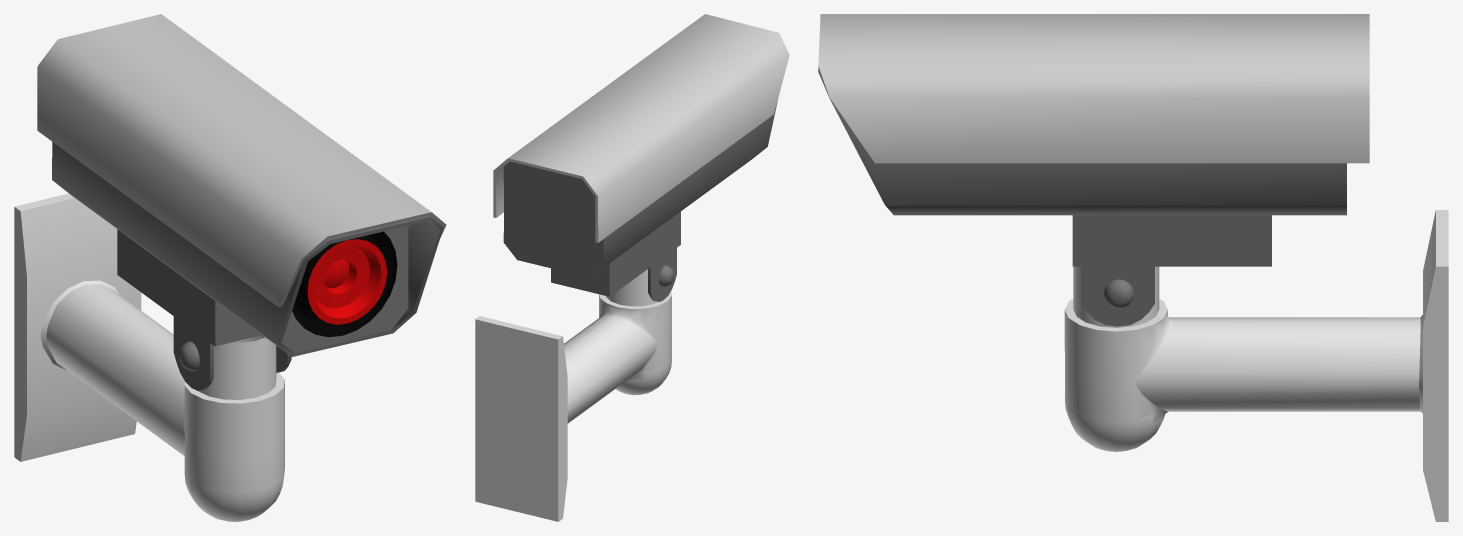
File: Camera.fbx
3 views of the same model, side by side, from view 1: azimuth 30°, elevation 25°; view 2: azimuth 150°, elevation 25°; view 3: azimuth 270°, elevation 25° (orthographic). The views are drawn at different scales.
Visible parts, largest first — view 1: kamera, kamera kolu; view 2: kamera, kamera kolu; view 3: kamera, kamera kolu.
Boxes of the visible parts, <box> form: kamera: <box>37,14,446,390</box>; kamera kolu: <box>14,193,284,521</box>; kamera: <box>493,14,789,301</box>; kamera kolu: <box>475,269,671,521</box>; kamera: <box>818,14,1369,326</box>; kamera kolu: <box>1064,210,1448,521</box>.
Bounding box in the file's own units: 10.97 × 32.32 × 40.7.
